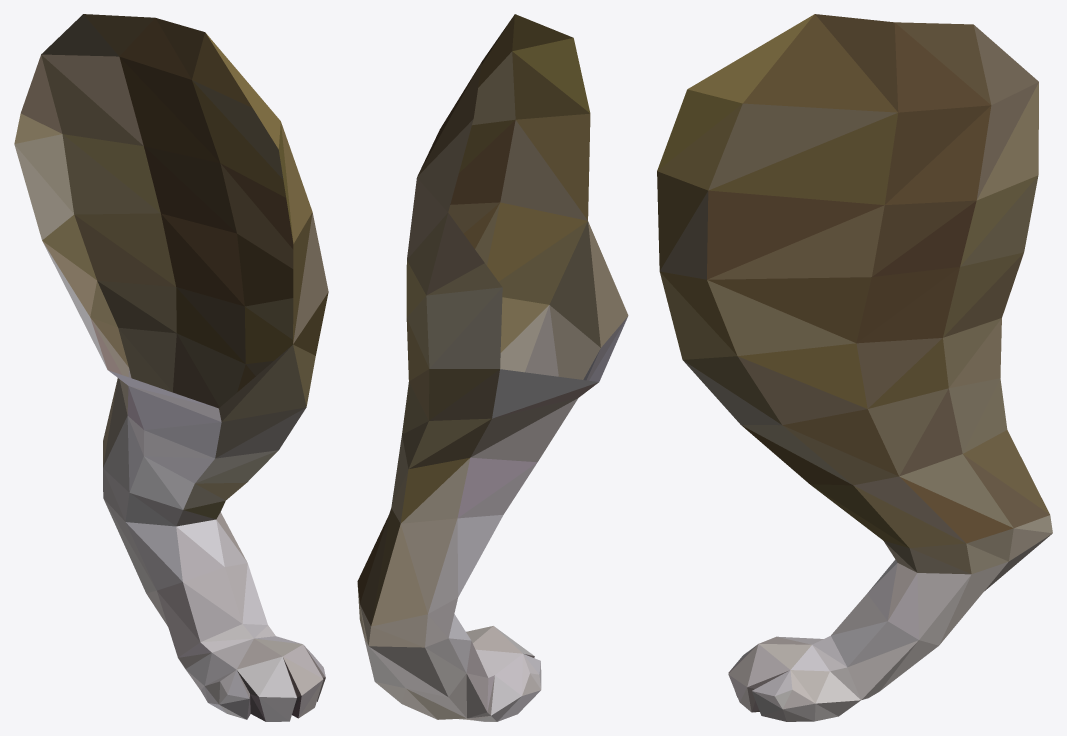
File: PataTrasDer.obj
The picture shows the model from 3 angles, left to right: view 1: azimuth 30°, elevation 25°; view 2: azimuth 150°, elevation 25°; view 3: azimuth 270°, elevation 25°; orthographic projection. The views are drawn at different scales.
Parts seen in each view (by area): view 1: PataTrasDer1:cat_01_color05 group4; view 2: PataTrasDer1:cat_01_color05 group4; view 3: PataTrasDer1:cat_01_color05 group4.
Boxes of the visible parts, x1,y1,x2,y2 form: PataTrasDer1:cat_01_color05 group4: [14, 14, 328, 721]; PataTrasDer1:cat_01_color05 group4: [357, 14, 628, 721]; PataTrasDer1:cat_01_color05 group4: [657, 14, 1052, 721].
Bounding box in the file's own units: 0.186 × 0.6277 × 0.3393.
1 material, 1 textured.
